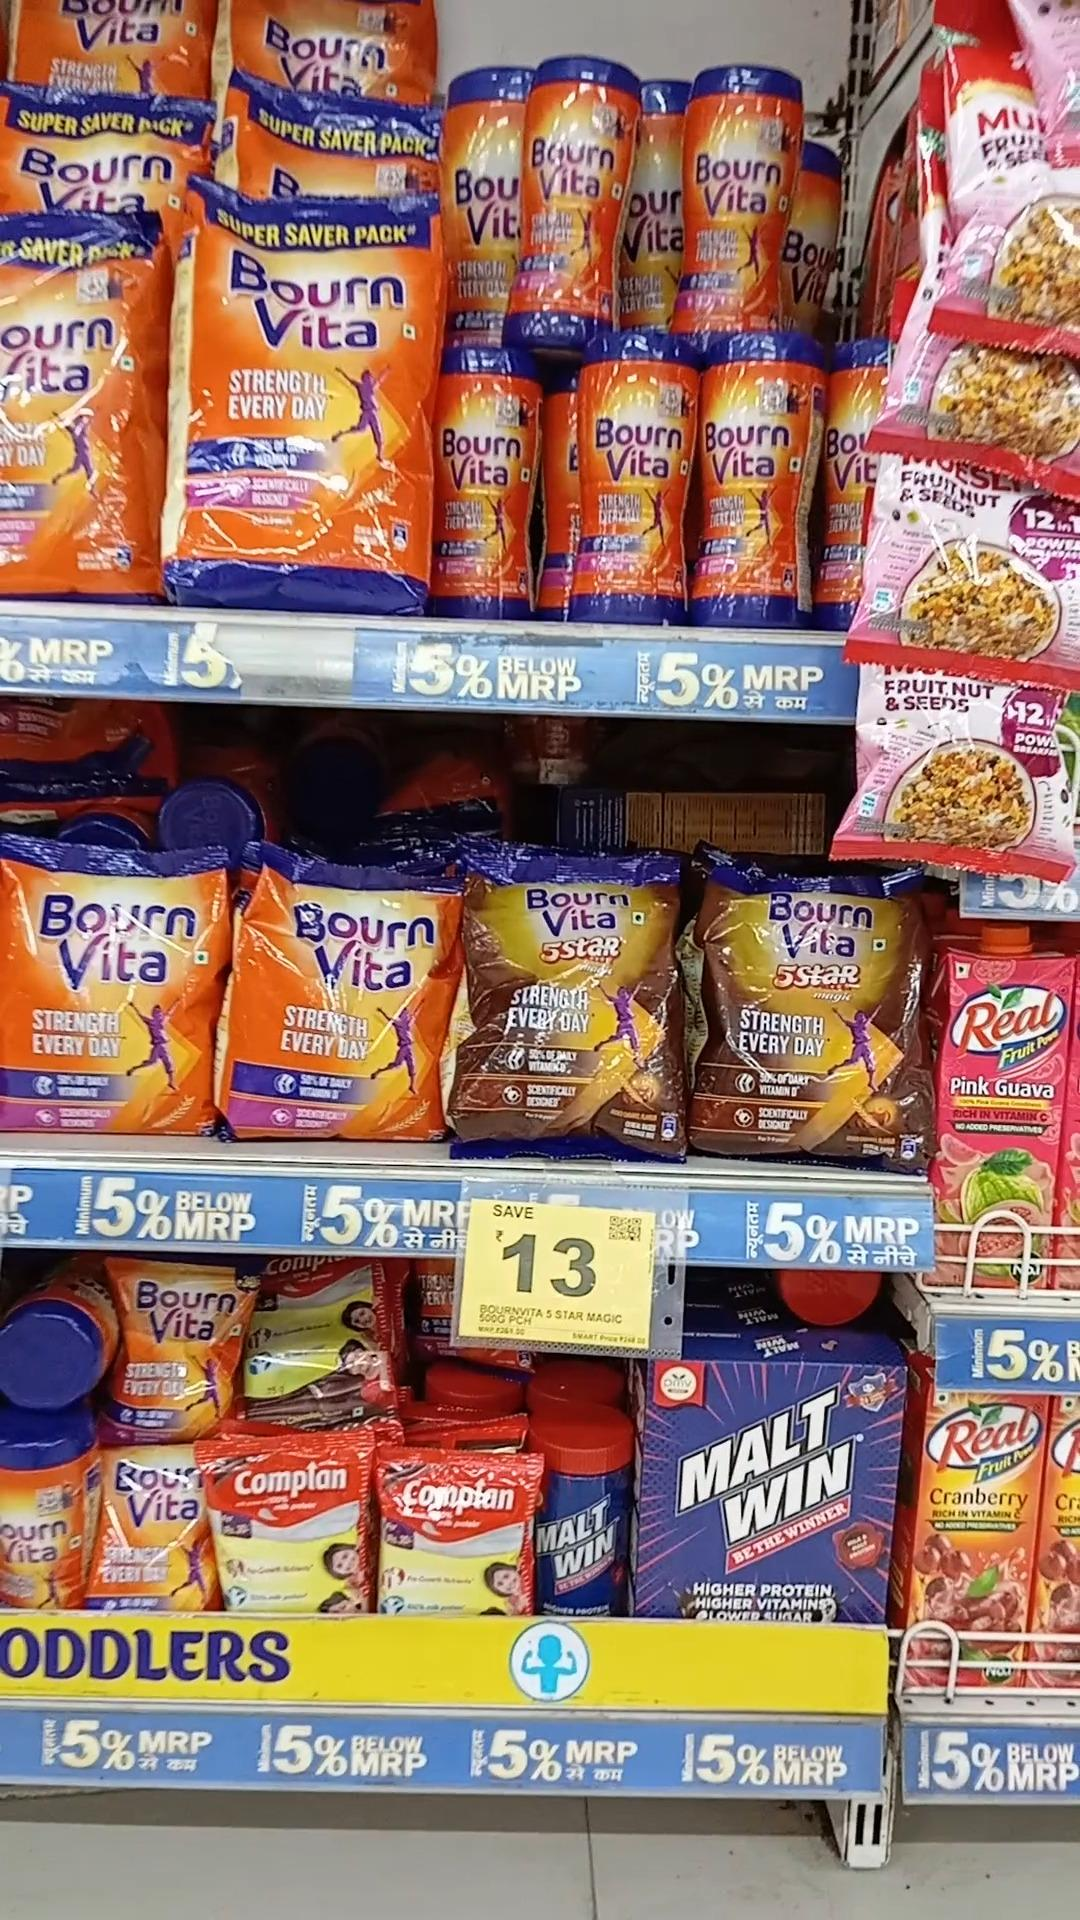BOURN_VITA_1_KG_POUCH: (181, 185, 435, 607), (0, 200, 165, 601)
BOURN_VITA_500_G_JAR: (501, 51, 646, 328), (687, 324, 812, 618), (580, 331, 682, 628), (674, 66, 790, 320), (442, 344, 537, 616)
BOURN_VITA_500_G_POUCH: (223, 847, 454, 1135), (0, 833, 216, 1124)
BOURN_VITA_75_G_POUCH: (105, 1254, 243, 1443), (95, 1444, 210, 1611)
BOURN_VITA_FIVE_STAR_MAGIC_500_G_POUCH: (692, 844, 935, 1170), (467, 852, 682, 1154)
